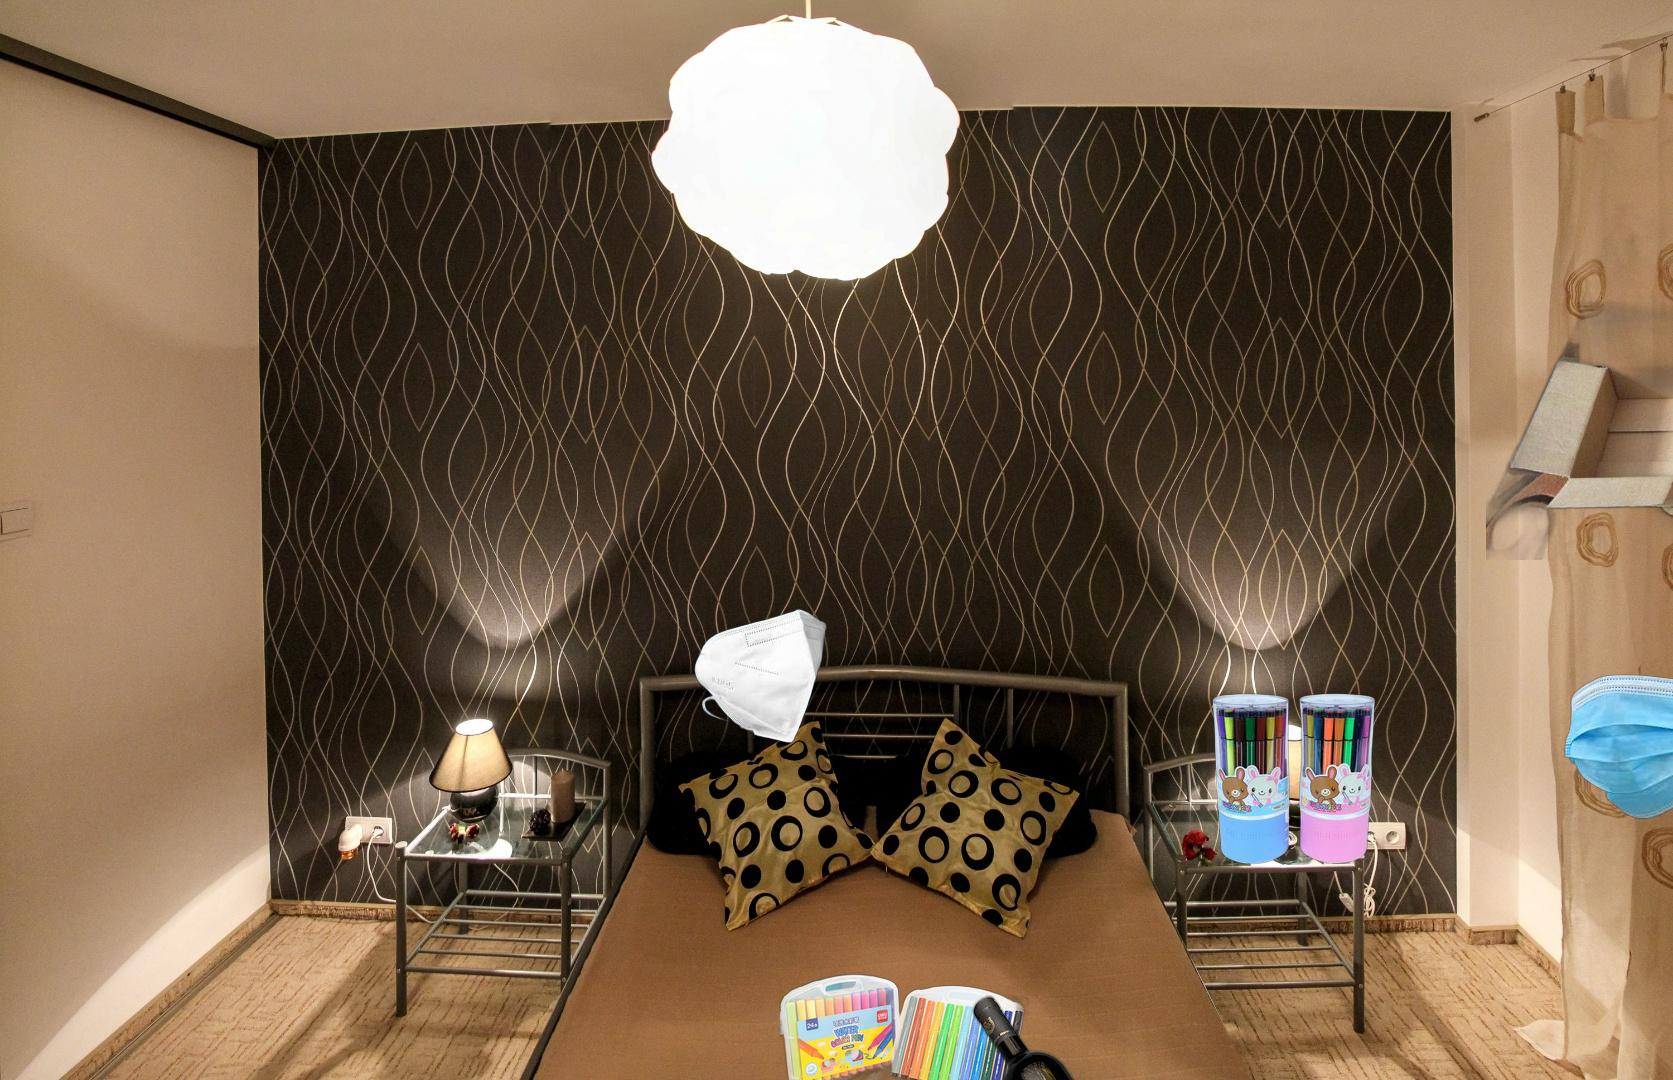biological: (622, 1063, 1247, 1080)
glass: (968, 991, 1167, 1080)
penholder: (1210, 691, 1378, 867), (779, 972, 1029, 1080)
trash: (684, 573, 829, 746), (1562, 672, 1673, 822)
trashbox-cardboard: (1486, 154, 1673, 560)
